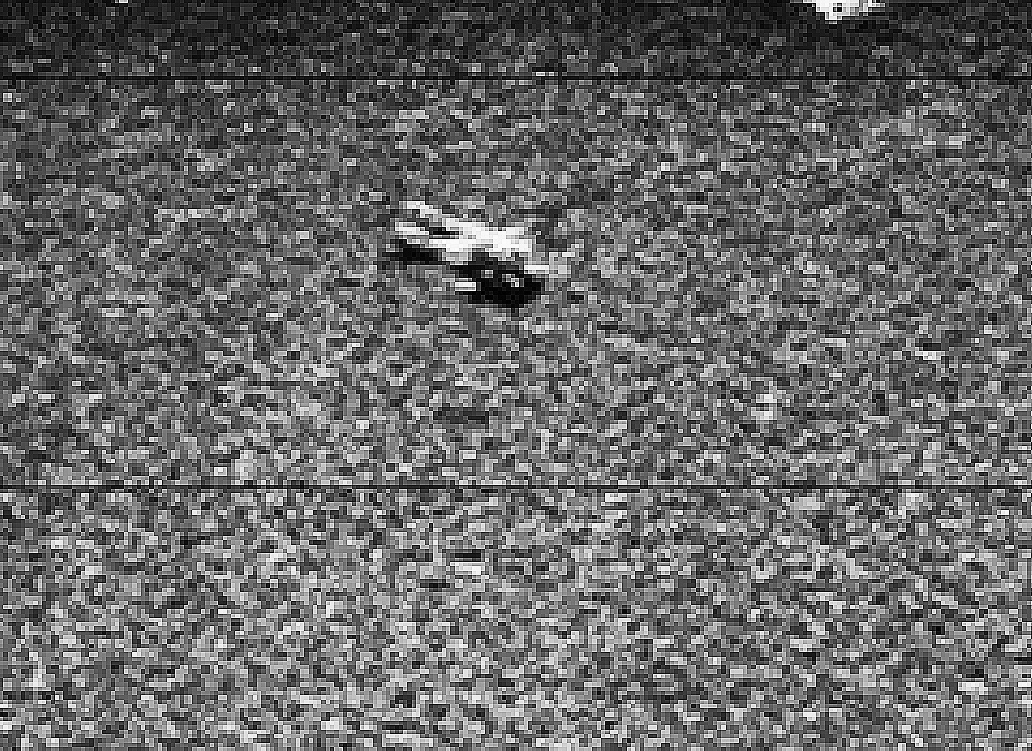man: (384, 194, 583, 312)
